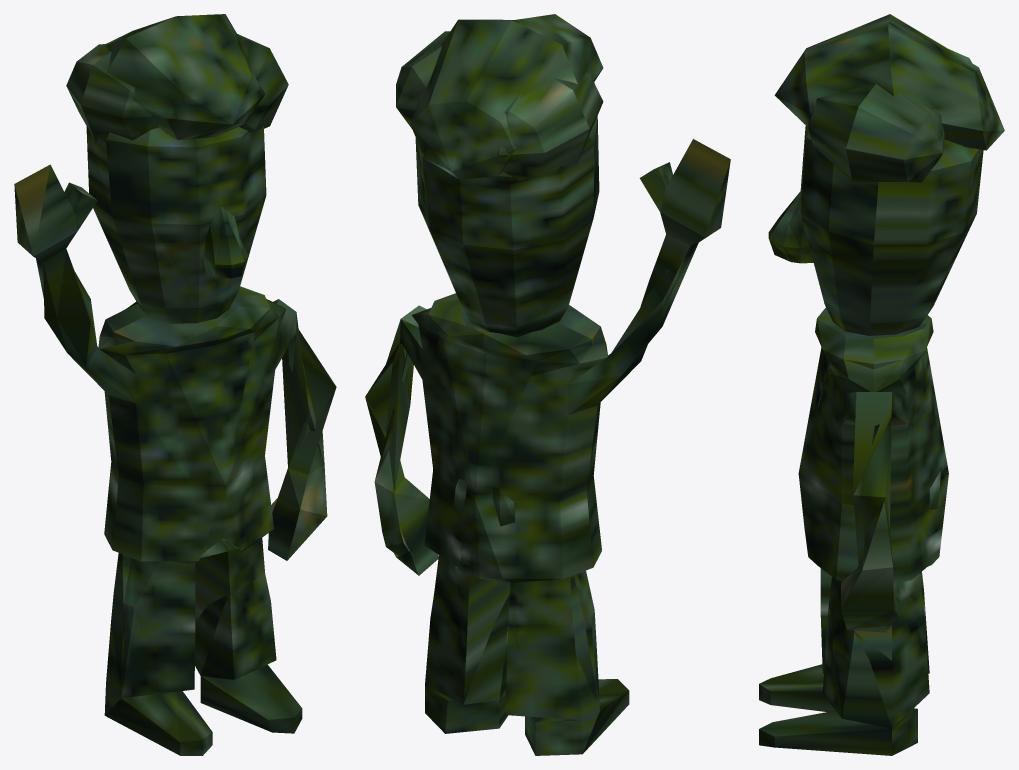
The model's file is YachGras.glb.
3 views of the same model, side by side, from view 1: azimuth 30°, elevation 25°; view 2: azimuth 150°, elevation 25°; view 3: azimuth 270°, elevation 25° (orthographic). The views are drawn at different scales.
Visible parts, largest first — view 1: YachGras; view 2: YachGras; view 3: YachGras.
Boxes of the visible parts, x1,y1,x2,y2 form: YachGras: (14,14,336,755); YachGras: (365,14,730,755); YachGras: (759,14,1004,755).
Bounding box in the file's own units: 112 × 223 × 71.48.
1 material, 1 textured.
